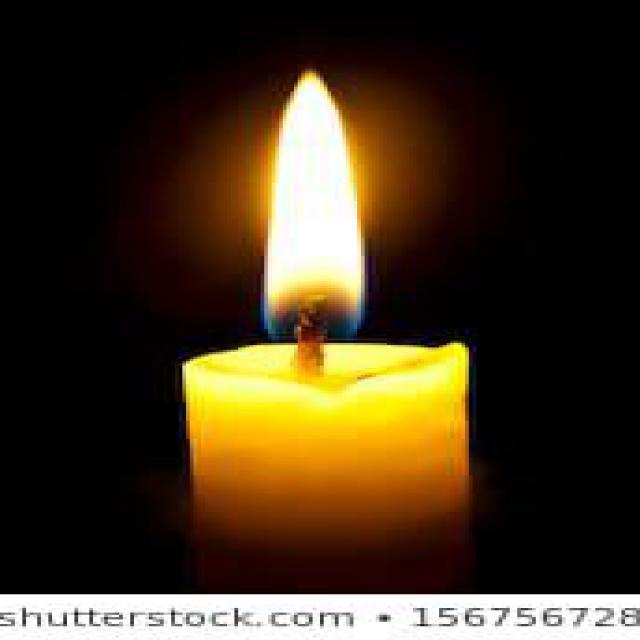Fire: (258, 68, 366, 343)
